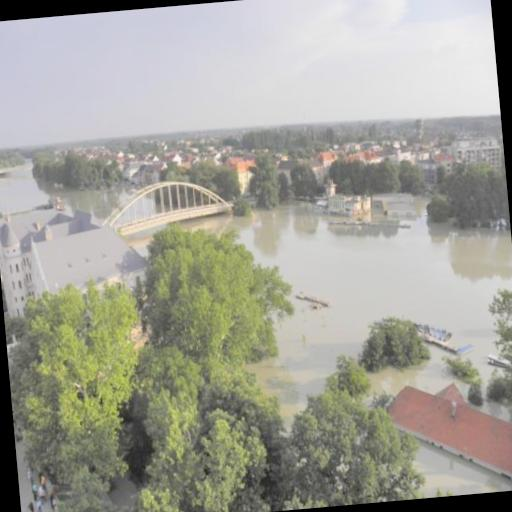flood: (183, 194, 512, 423), (0, 166, 130, 220), (417, 444, 512, 496), (370, 346, 455, 395), (15, 442, 34, 512), (483, 403, 510, 419)
house: (386, 376, 512, 501), (20, 222, 138, 298)
